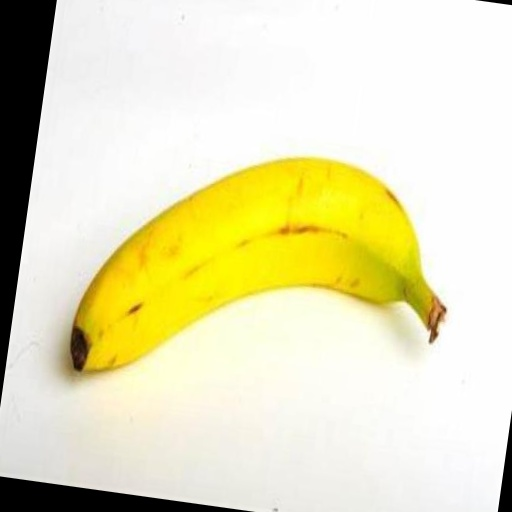fruit: (71, 158, 445, 370)
